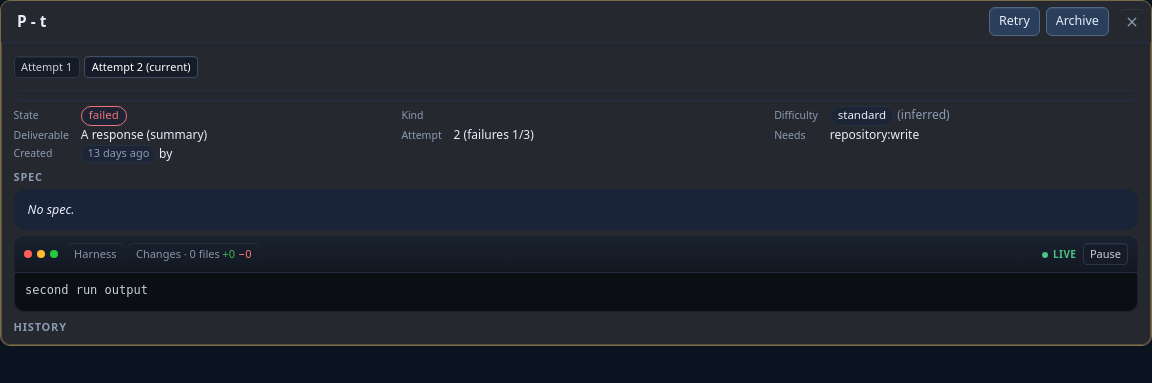
Test: attempt strip › scopes progress notes to the selected attempt
Expected: the text "second run output" is shown, x1=25 y1=283 x2=148 y2=297
Expected: the text "note from one" is not shown
Click the button "Attempt 1" at (47, 67), box x1=14 y1=56 x2=80 y2=78
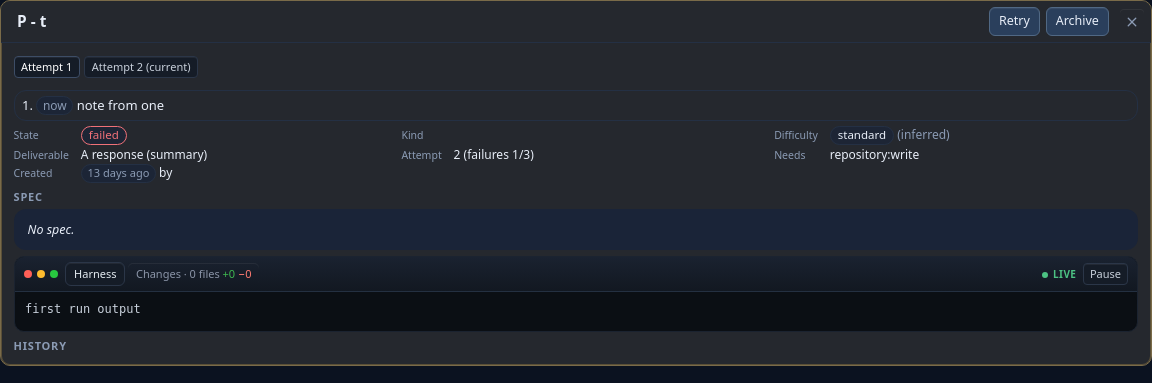
Now the list item "note from one" is shown, box x1=77 y1=96 x2=164 y2=114
